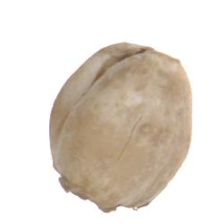L1: (57, 174, 122, 213), (104, 42, 181, 65)
L2: (49, 43, 193, 214)
